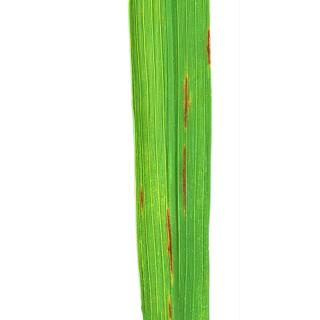Bercak-Cokelat-Sempit: (164, 210, 179, 320), (176, 141, 188, 213), (182, 71, 190, 130), (203, 28, 214, 68), (137, 188, 145, 212)
